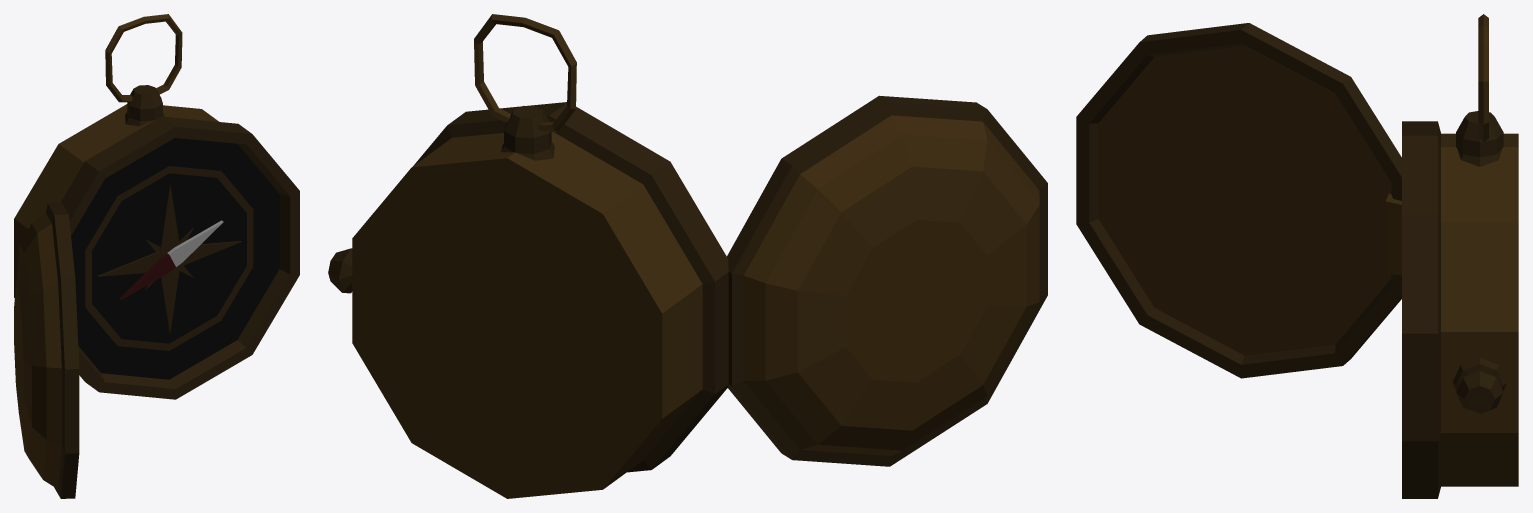
The model's file is micro_compass.obj.
The picture shows the model from 3 angles, left to right: view 1: azimuth 30°, elevation 25°; view 2: azimuth 150°, elevation 25°; view 3: azimuth 270°, elevation 25°; orthographic projection. The views are drawn at different scales.
Visible parts, largest first — view 1: Compass_Open_Cylinder.030; view 2: Compass_Open_Cylinder.030; view 3: Compass_Open_Cylinder.030.
Part boxes in pixels (left/top/right/bottom): Compass_Open_Cylinder.030: left=14, top=14, right=299, bottom=498; Compass_Open_Cylinder.030: left=328, top=14, right=1047, bottom=498; Compass_Open_Cylinder.030: left=1076, top=14, right=1518, bottom=498.
Size of the model in its own units: 0.9079 by 0.8054 by 0.7027.
